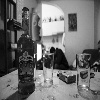beer: (16, 10, 41, 96)
